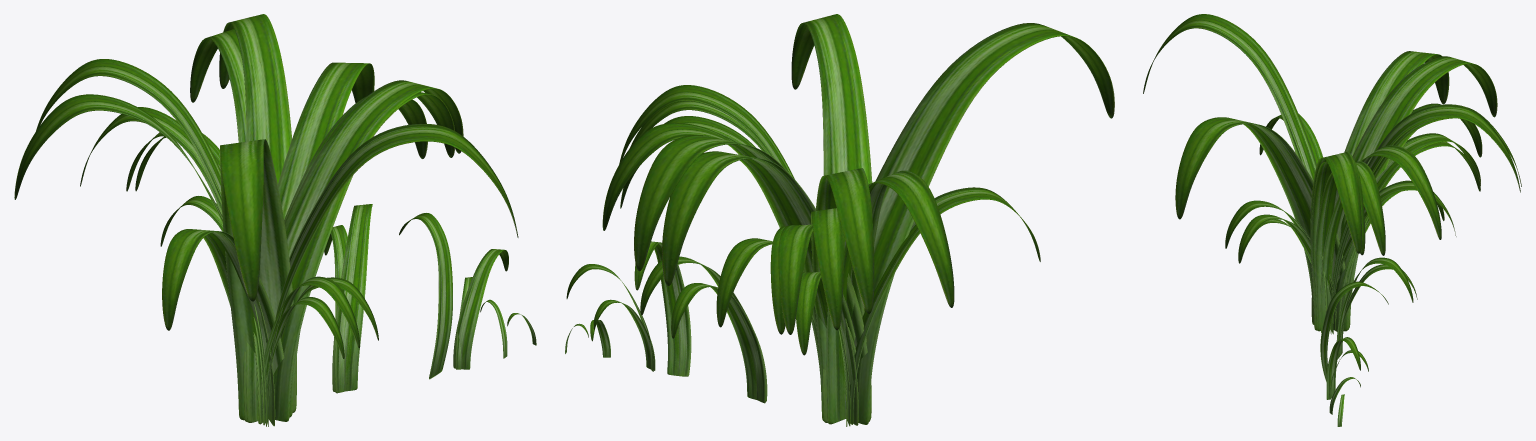
Rendered from plantWithPot_edit_for_FBX.fbx.
3 renders of one model, left to right at view 1: azimuth 30°, elevation 25°; view 2: azimuth 150°, elevation 25°; view 3: azimuth 270°, elevation 25°, orthographic. The views are drawn at different scales.
Parts seen in each view (by area): view 1: plants06, plants05, plants04, plants03; view 2: plants06, plants05, plants04, plants03; view 3: plants06, plants05, plants04, plants03.
Part boxes in pixels (bbox=[...]): plants06: bbox=[14, 14, 518, 426]; plants05: bbox=[324, 204, 372, 393]; plants04: bbox=[399, 213, 452, 379]; plants03: bbox=[453, 249, 508, 369]; plants06: bbox=[602, 14, 1114, 426]; plants05: bbox=[640, 256, 767, 403]; plants04: bbox=[634, 241, 691, 376]; plants03: bbox=[566, 264, 655, 371]; plants06: bbox=[1143, 14, 1521, 334]; plants05: bbox=[1336, 257, 1417, 359]; plants04: bbox=[1320, 281, 1388, 381]; plants03: bbox=[1326, 337, 1368, 399].
Bounding box in the file's own units: 443 × 329 × 424.
